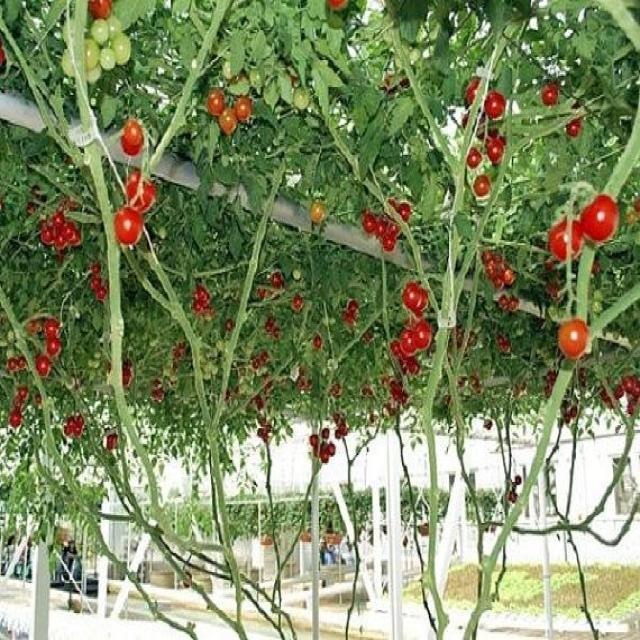kirmizi: (540, 174, 640, 258), (96, 188, 152, 244), (216, 78, 262, 140), (398, 278, 440, 334), (482, 112, 500, 136)
yesil: (74, 20, 156, 94)
